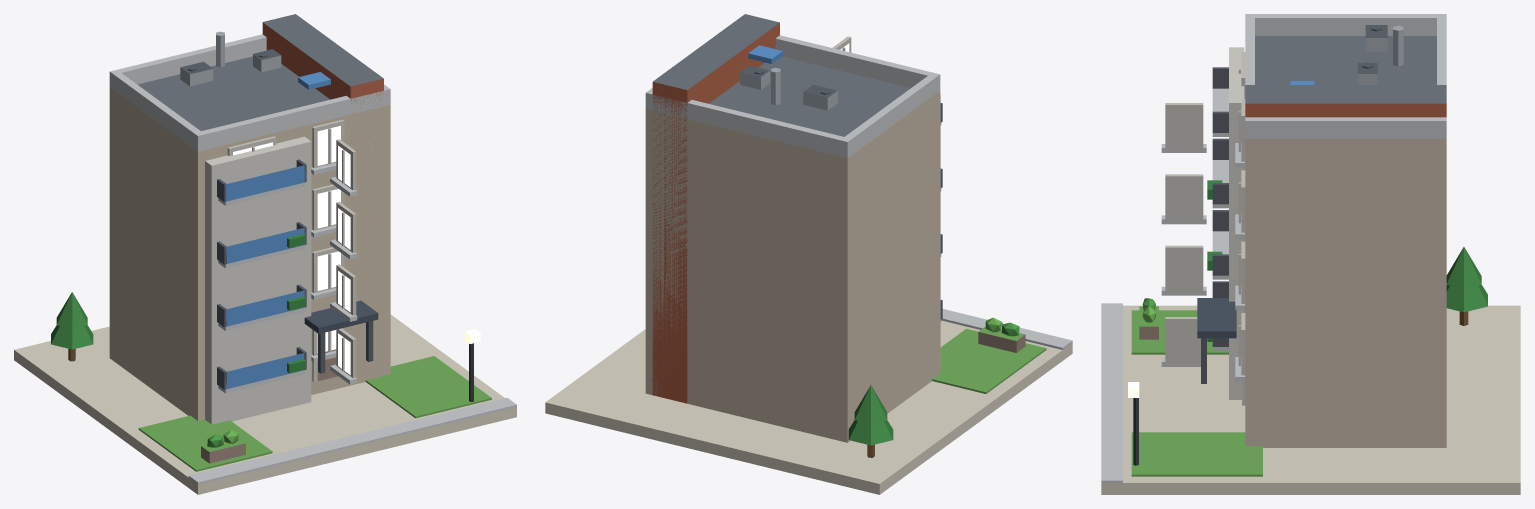
3 views of the same model, side by side, from view 1: azimuth 30°, elevation 25°; view 2: azimuth 150°, elevation 25°; view 3: azimuth 270°, elevation 25° (orthographic). The views are drawn at different scales.
Parts seen in each view (by area): view 1: b08_v2; view 2: b08_v2; view 3: b08_v2.
Boxes of the visible parts, x1,y1,x2,y2 form: b08_v2: (14,14,516,494); b08_v2: (545,14,1072,494); b08_v2: (1101,14,1520,494).
Size of the model in its own units: 0.96 by 0.945 by 0.96.
